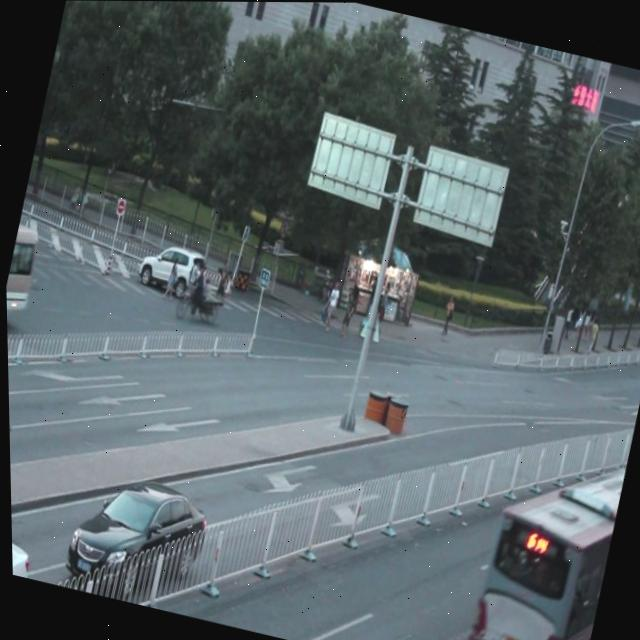car: (57, 467, 212, 613), (135, 239, 209, 302), (9, 514, 35, 578)
truck: (4, 219, 44, 328)
van: (452, 435, 627, 640)
